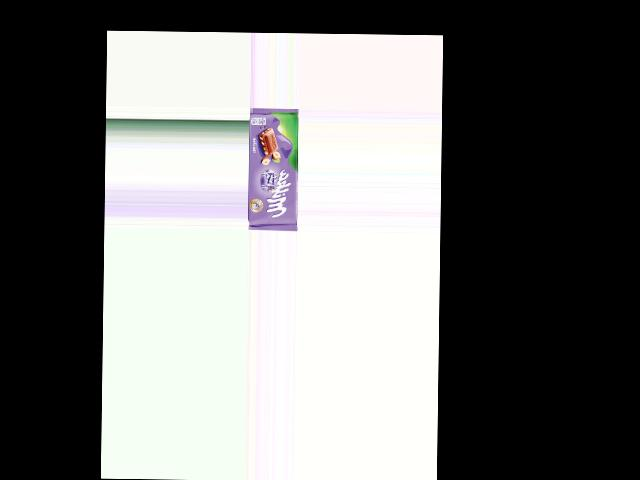chocolate: (247, 107, 298, 230)
